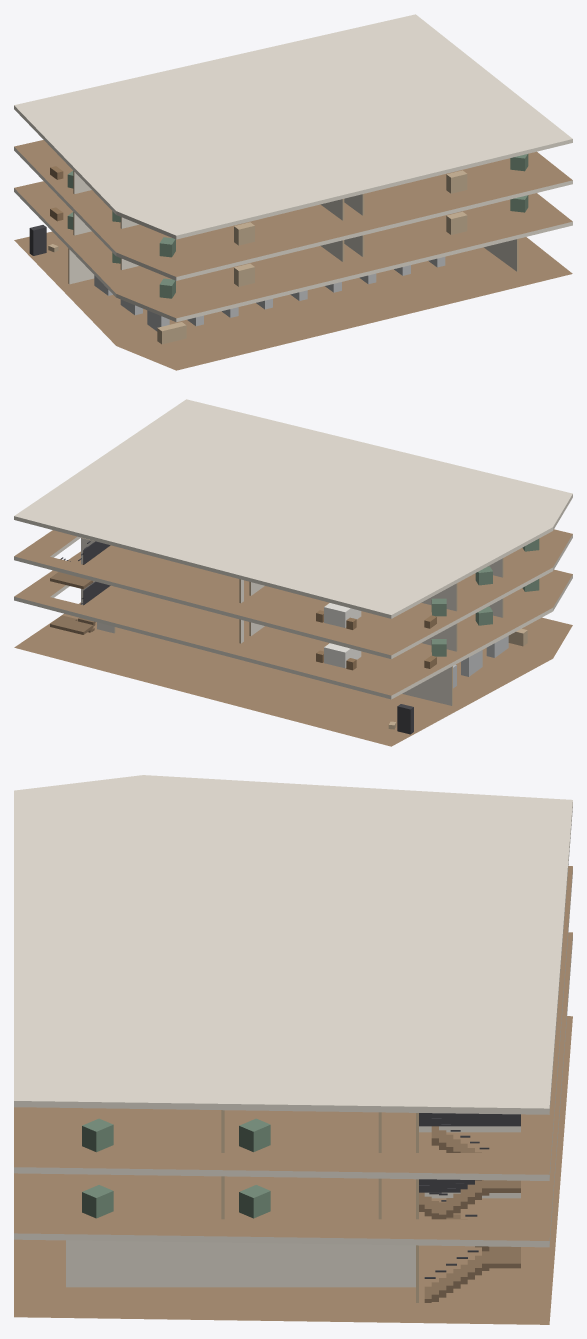
The model's file is interior.glb.
3 renders of one model, top to bottom at view 1: azimuth 30°, elevation 25°; view 2: azimuth 150°, elevation 25°; view 3: azimuth 270°, elevation 25°, orthographic. The views are drawn at different scales.
Parts seen in each view (by area): view 1: slabs, partitions, coarse-s0, coarse-s1, coarse-s2; view 2: slabs, partitions, stair, coarse-s2, coarse-s1, coarse-s0; view 3: slabs, partitions, stair, coarse-s2, coarse-s1.
Part boxes in pixels (left/top/right/bottom): slabs: left=14, top=14, right=572, bottom=370; partitions: left=68, top=171, right=518, bottom=284; coarse-s0: left=29, top=225, right=445, bottom=344; coarse-s1: left=50, top=195, right=528, bottom=298; coarse-s2: left=50, top=154, right=528, bottom=257; slabs: left=14, top=399, right=572, bottom=746; partitions: left=81, top=537, right=503, bottom=705; stair: left=50, top=541, right=110, bottom=634; coarse-s2: left=316, top=538, right=539, bottom=629; coarse-s1: left=316, top=579, right=539, bottom=670; coarse-s0: left=388, top=628, right=527, bottom=734; slabs: left=14, top=775, right=572, bottom=1324; partitions: left=66, top=1110, right=418, bottom=1302; stair: left=419, top=1113, right=520, bottom=1302; coarse-s2: left=82, top=1118, right=270, bottom=1152; coarse-s1: left=82, top=1185, right=270, bottom=1218.
Bounding box in the file's own units: 29.68 × 9 × 21.02.
